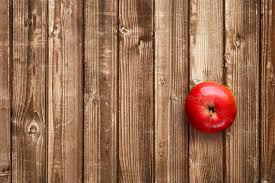apple: (184, 79, 237, 134)
